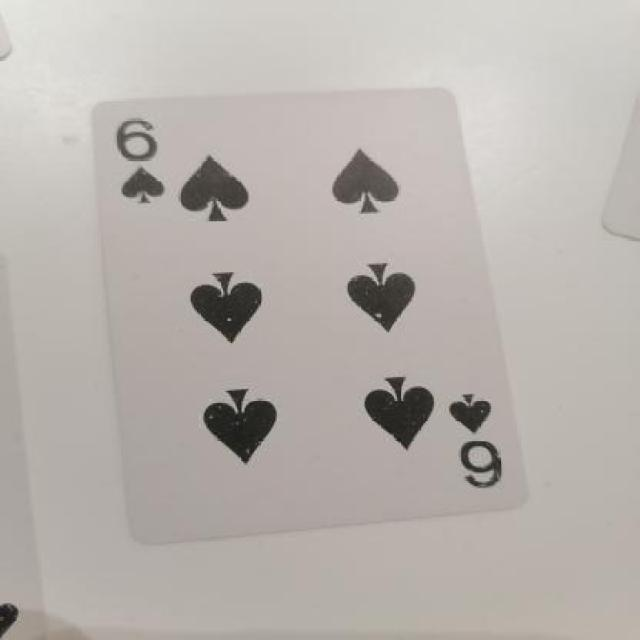6S: (442, 380, 520, 494), (102, 108, 182, 214)
